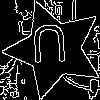U: (29, 24, 70, 72)
